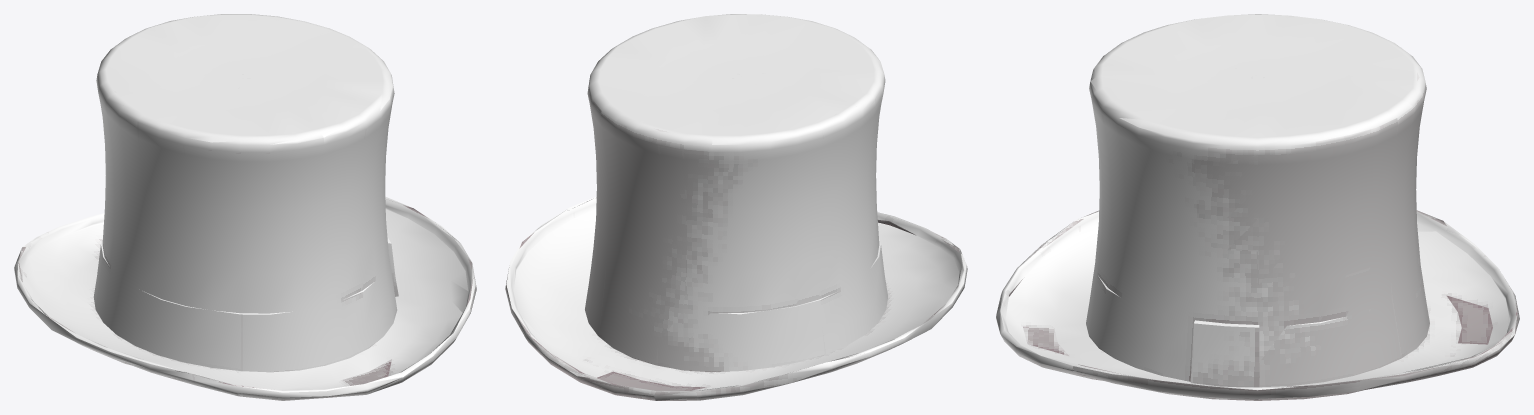
The model's file is wear_tophat.glb.
The picture shows the model from 3 angles, left to right: view 1: azimuth 30°, elevation 25°; view 2: azimuth 150°, elevation 25°; view 3: azimuth 270°, elevation 25°; orthographic projection. The views are drawn at different scales.
Visible parts, largest first — view 1: mesh; view 2: mesh; view 3: mesh.
Part boxes in pixels (x1,y1,x2,y2): mesh: [14, 14, 476, 400]; mesh: [505, 14, 967, 400]; mesh: [996, 14, 1519, 400].
Bounding box in the file's own units: 0.3105 × 0.18 × 0.3374.
Materials: 1 (1 with a texture image).
